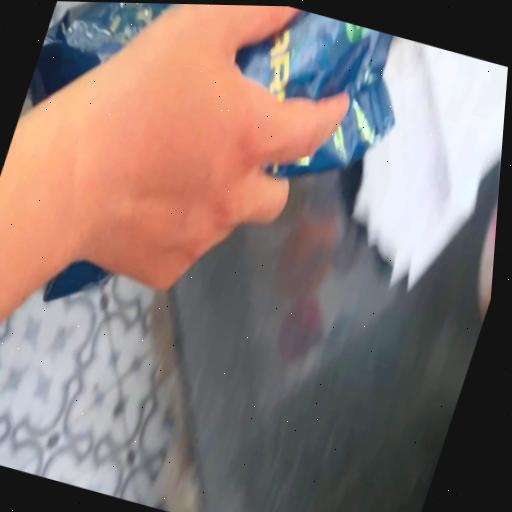cafe_hat: (235, 10, 393, 178), (27, 2, 180, 102), (43, 261, 109, 300)
